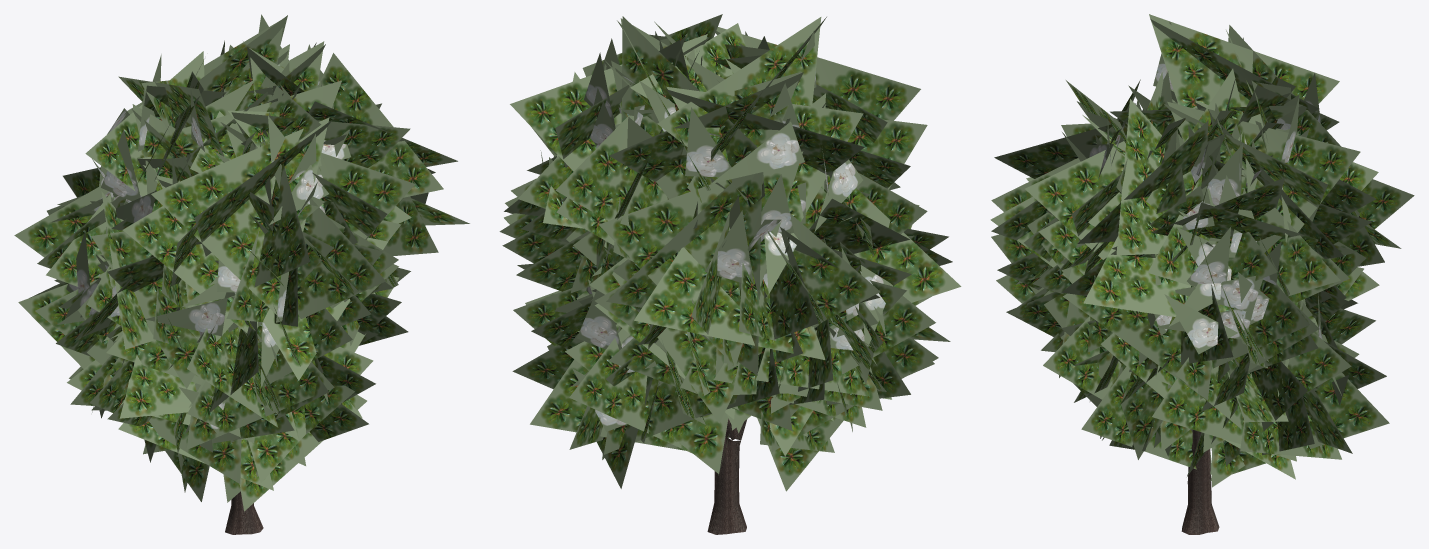
File: Magnolia_Grandiflora_Spring_Young.glb
3 views of the same model, side by side, from view 1: azimuth 30°, elevation 25°; view 2: azimuth 150°, elevation 25°; view 3: azimuth 270°, elevation 25° (orthographic). The views are drawn at different scales.
Visible parts, largest first — view 1: Magnolia_Grandiflora_Spring_Young__LOD3; view 2: Magnolia_Grandiflora_Spring_Young__LOD3; view 3: Magnolia_Grandiflora_Spring_Young__LOD3.
Boxes of the visible parts, x1,y1,x2,y2 form: Magnolia_Grandiflora_Spring_Young__LOD3: (14, 14, 469, 534); Magnolia_Grandiflora_Spring_Young__LOD3: (499, 14, 961, 534); Magnolia_Grandiflora_Spring_Young__LOD3: (990, 14, 1414, 534).
Bounding box in the file's own units: 8.91 × 10.68 × 8.52.
Materials: 2 (2 with a texture image).
